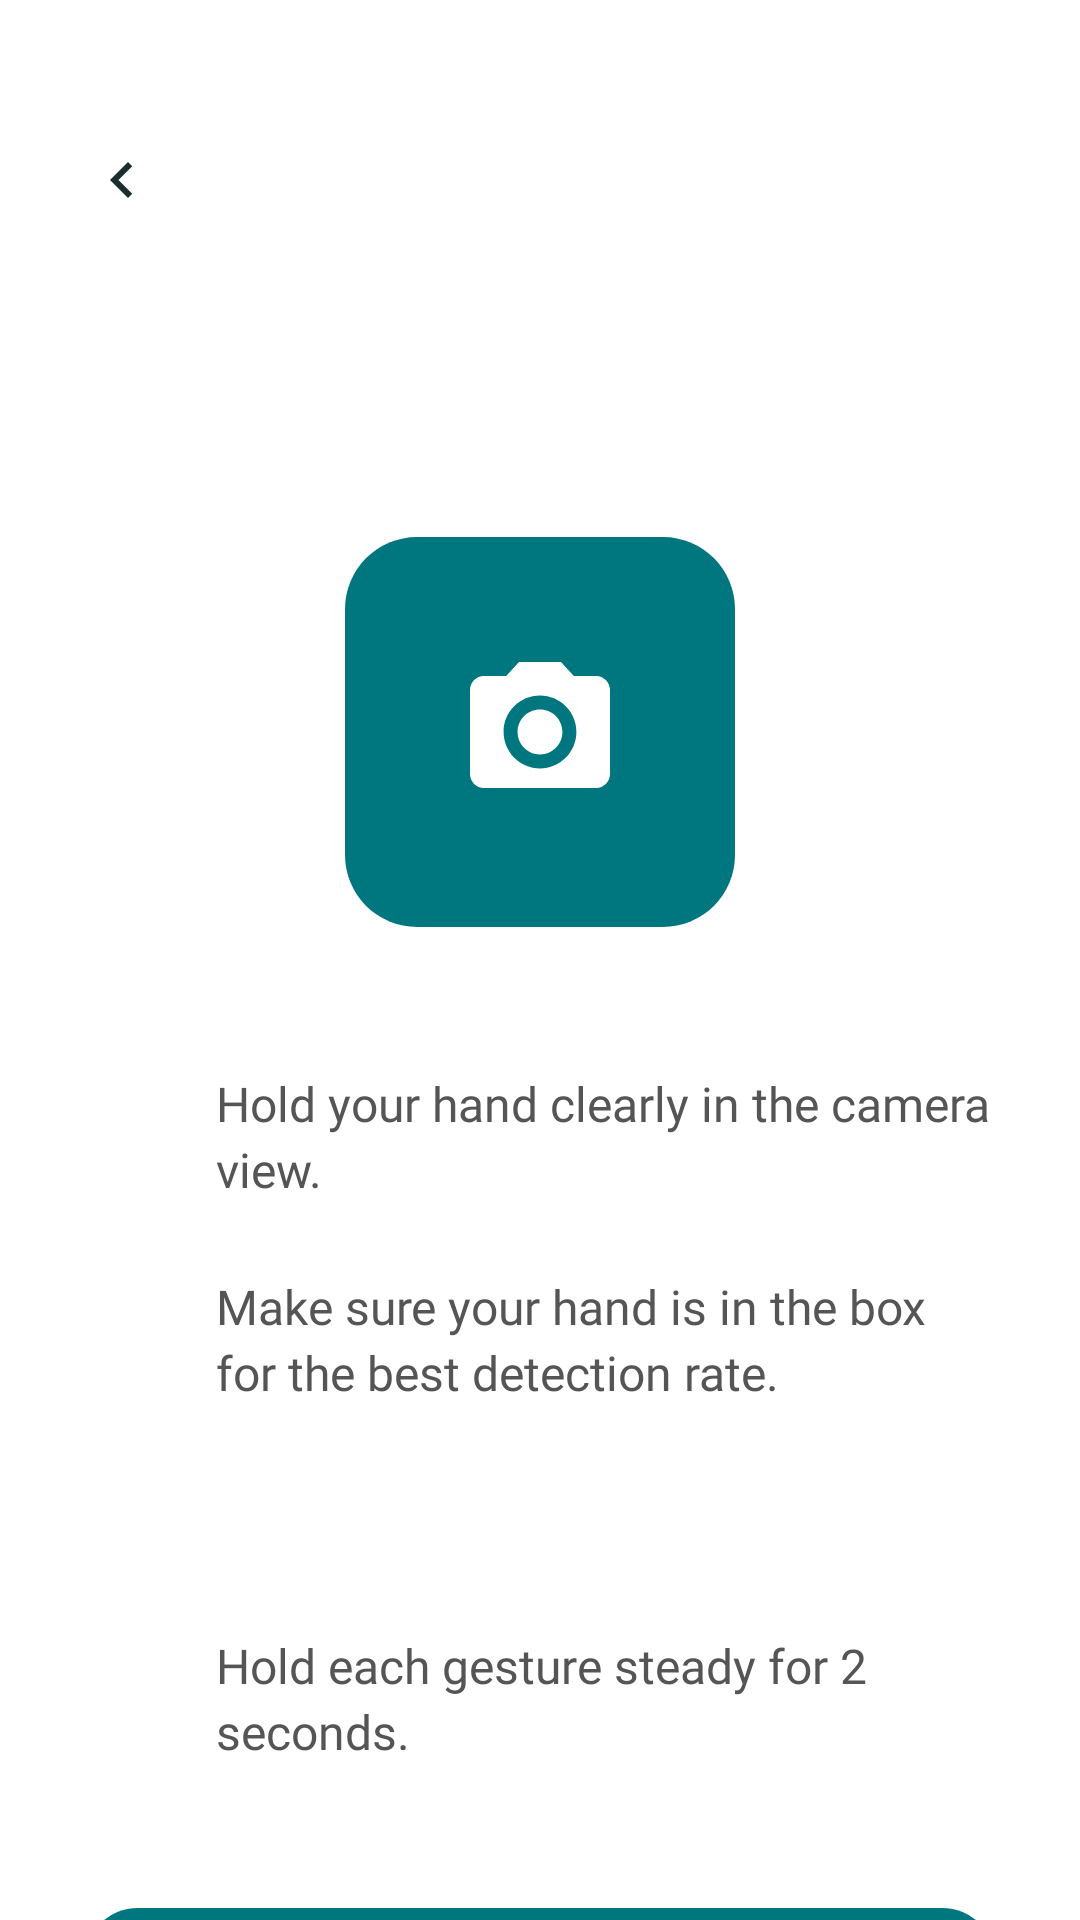

Icons on this 1080 × 1920 Android screen, each with the point to tap as (x=x, y=y):
camera: (x=540, y=725)
chevron left: (x=121, y=180)
